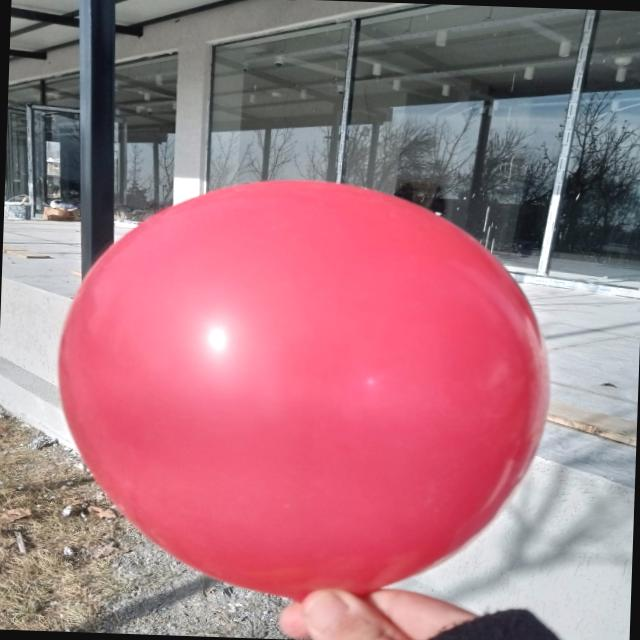balloon: (58, 180, 549, 598)
